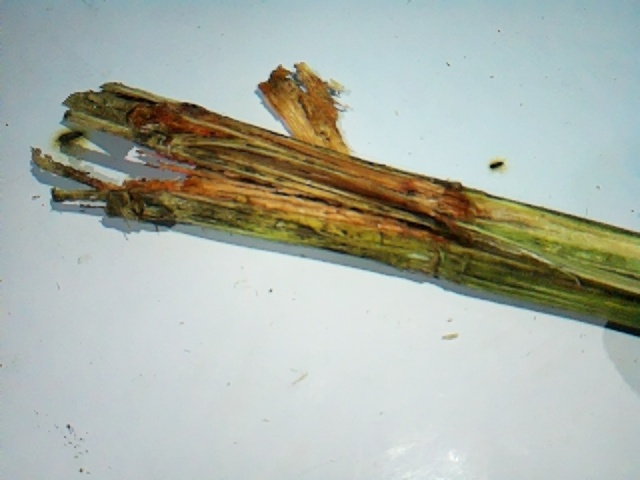Red-Rot: (28, 54, 508, 303)
